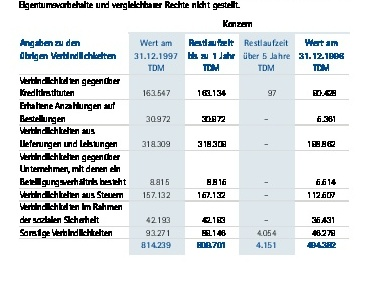table: (0, 0, 372, 282)
